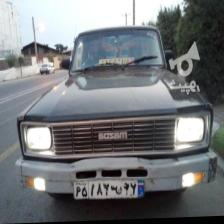plate: (74, 180, 146, 200)
